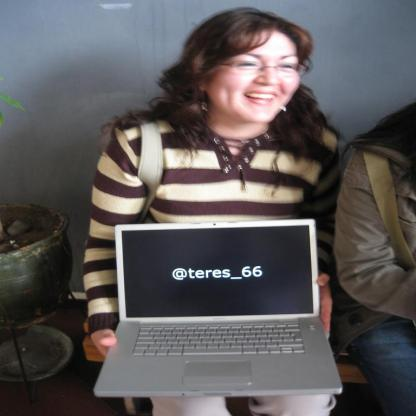board: (90, 220, 336, 400)
